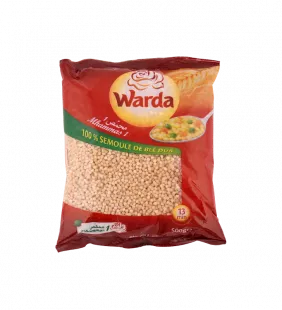LA ROSE BLANCHE: (46, 52, 236, 260)
